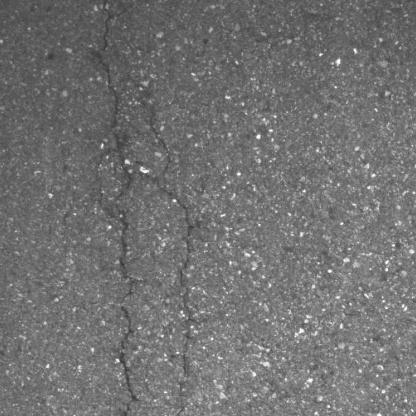Cracks: (88, 0, 143, 416), (146, 109, 199, 416)
